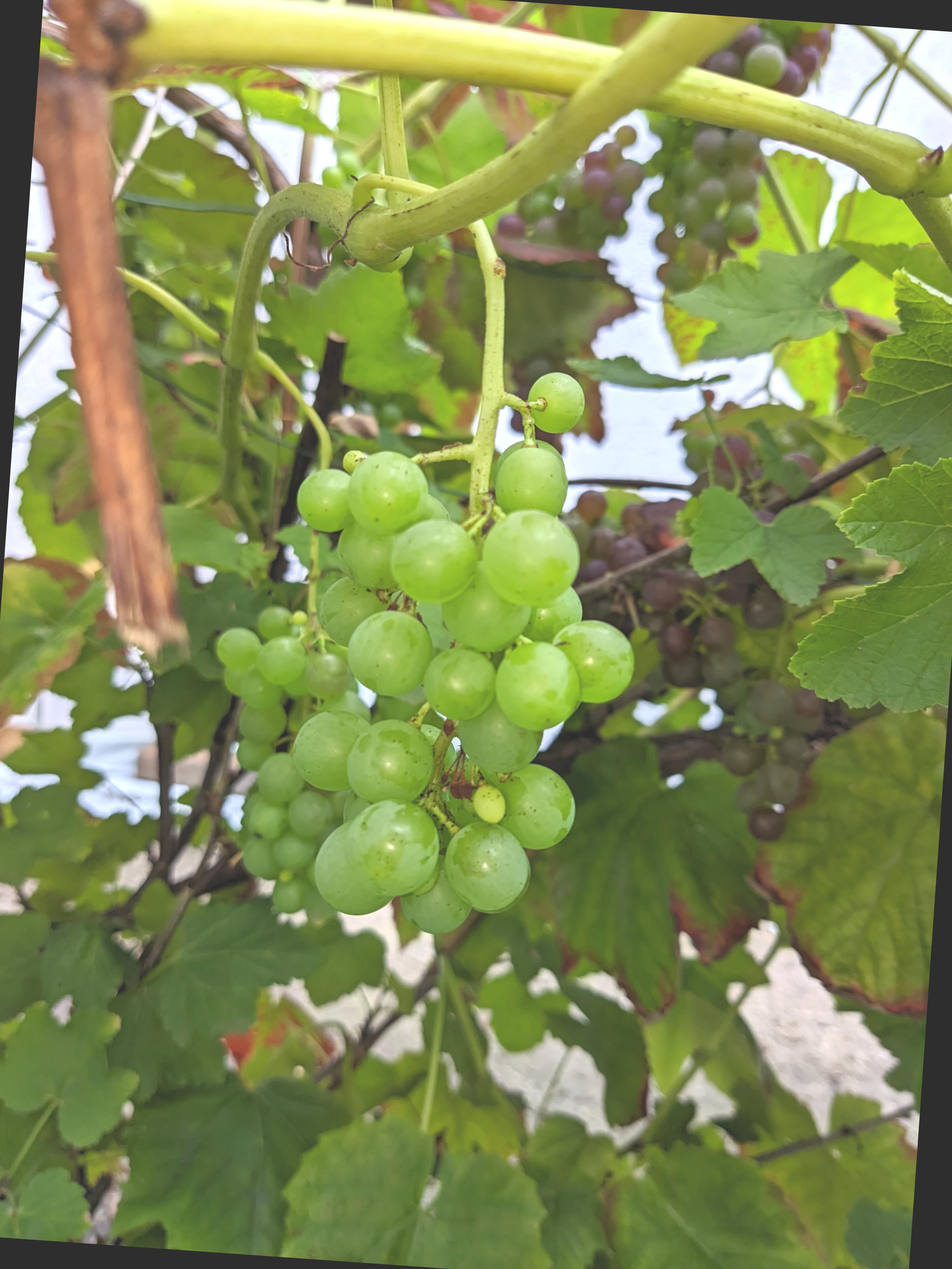Grape Unripe: (319, 321, 704, 922), (588, 389, 900, 822), (234, 570, 473, 906), (681, 0, 870, 266), (535, 86, 686, 226)
